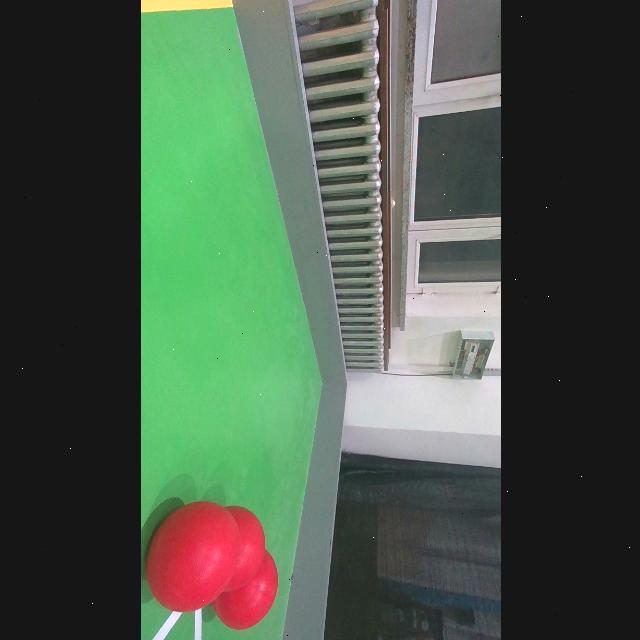R: (146, 502, 240, 612), (218, 506, 266, 596), (219, 556, 279, 628)
